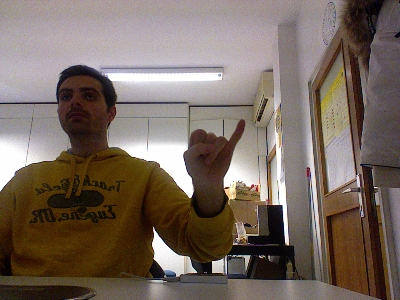小指: (182, 118, 245, 182)
